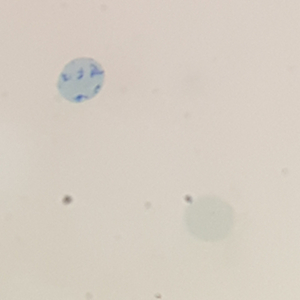aggregate reticulocyte: (56, 56, 108, 105)
erythrocyte: (182, 193, 237, 244)
